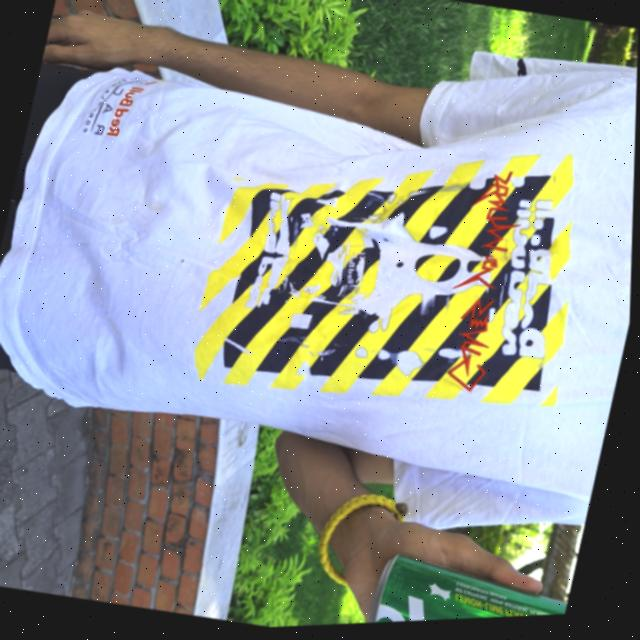Sprite: (365, 543, 578, 627)
